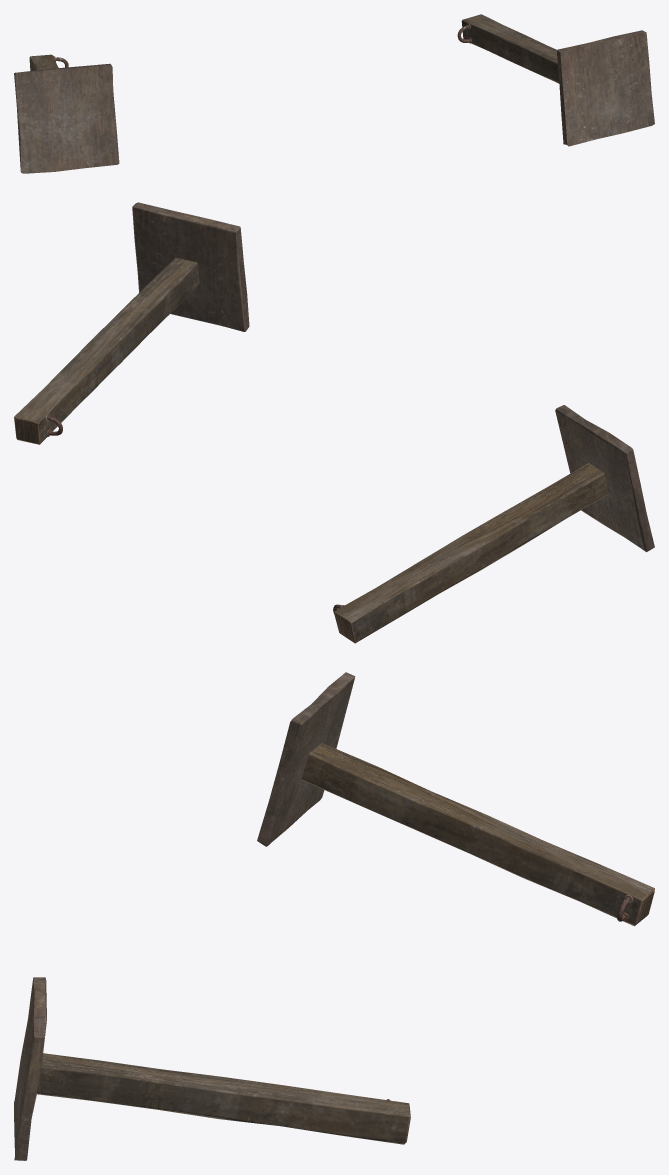
File: SM_RopeFence_B.fbx
3 views of the same model, one above another, from view 1: azimuth 30°, elevation 25°; view 2: azimuth 150°, elevation 25°; view 3: azimuth 270°, elevation 25° (orthographic). The views are drawn at different scales.
Parts seen in each view (by area): view 1: SM_RopeFence_B_LOD0; view 2: SM_RopeFence_B_LOD0; view 3: SM_RopeFence_B_LOD0.
Boxes of the visible parts, x1=… form: SM_RopeFence_B_LOD0: x1=14, y1=14, x2=654, y2=173; SM_RopeFence_B_LOD0: x1=14, y1=202, x2=654, y2=643; SM_RopeFence_B_LOD0: x1=14, y1=672, x2=654, y2=1160.
Bounding box in the file's own units: 189 × 141 × 40.16.
1 material, 1 textured.
